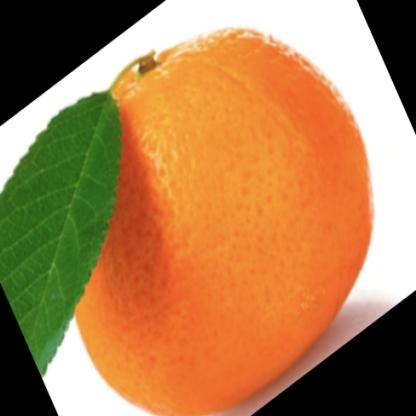fresh: (69, 27, 375, 416)
